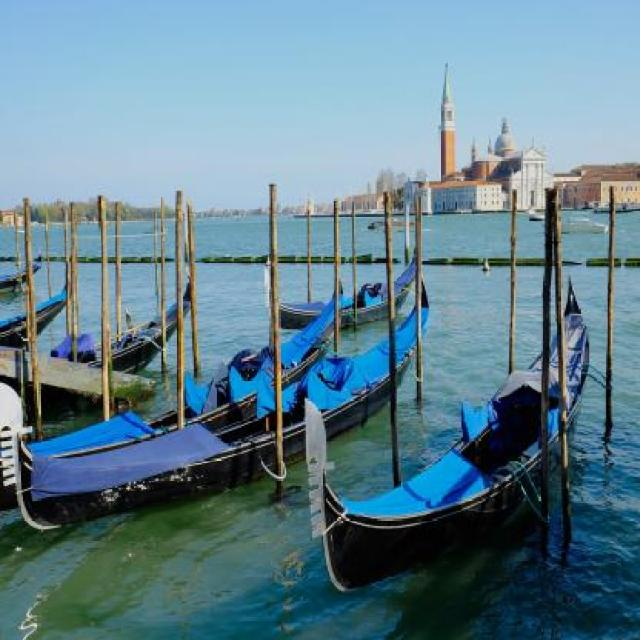ship: (2, 268, 429, 530), (302, 270, 588, 590), (51, 274, 192, 372), (264, 242, 416, 329)
